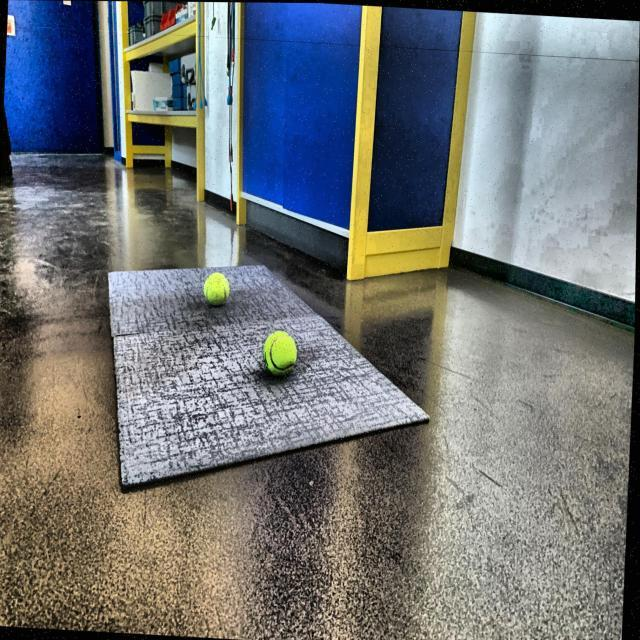tennis-ball: (261, 327, 303, 381), (202, 267, 234, 313)
